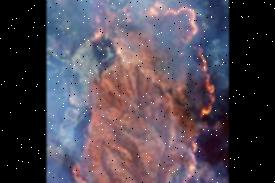fire: (185, 49, 218, 168)
